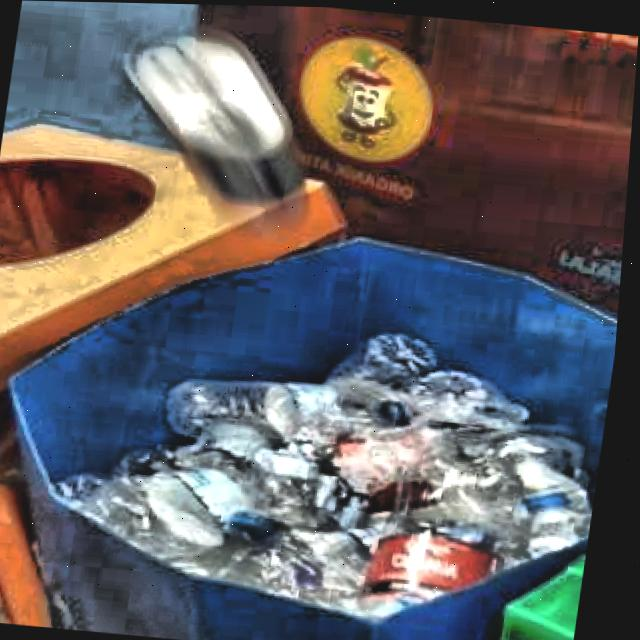plastic: (125, 31, 305, 197)
